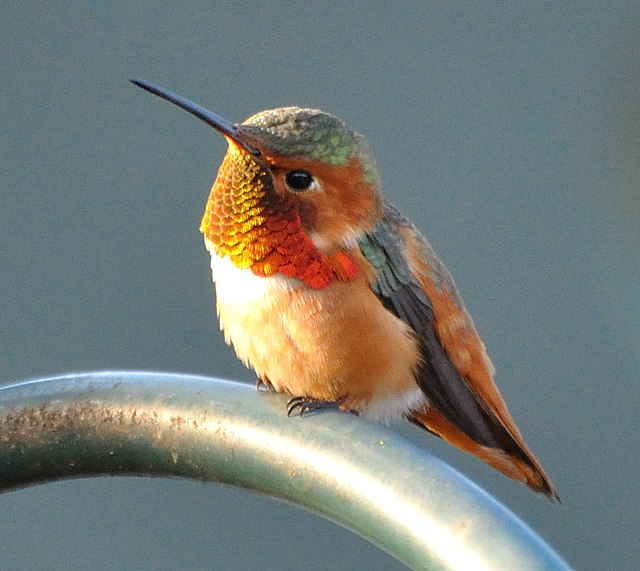selasphorus sasin: (129, 75, 562, 503)
